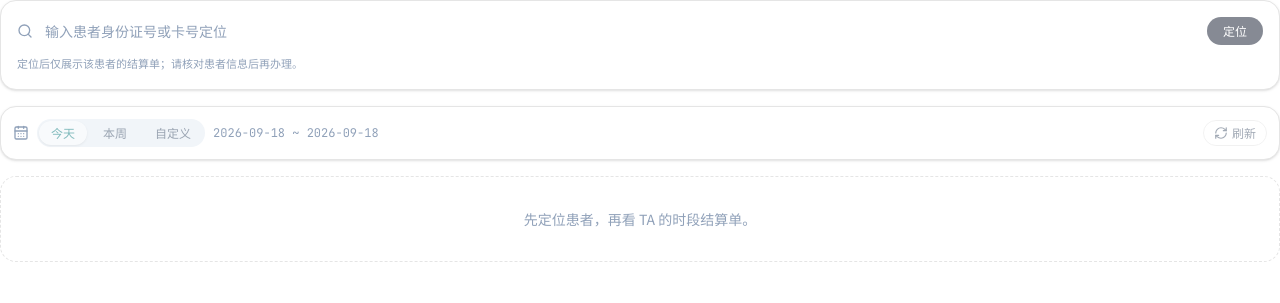
SettlementTimeBrowser（患者定位 + 时间浏览） › 定位未命中显示错误提示，不进入患者卡
Type "NOT-EXIST" into the field labelled "患者身份证号或卡号" at (620, 31), box x1=41 y1=17 x2=1199 y2=45
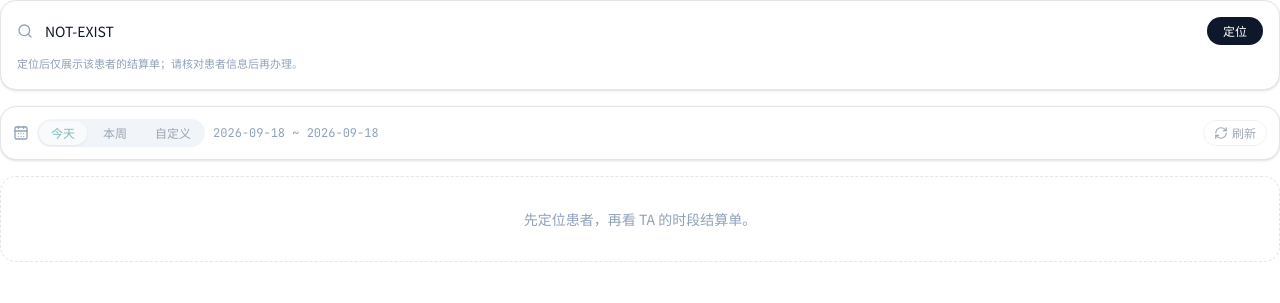
Click the button "定位" at (1235, 31), box x1=1207 y1=17 x2=1263 y2=45
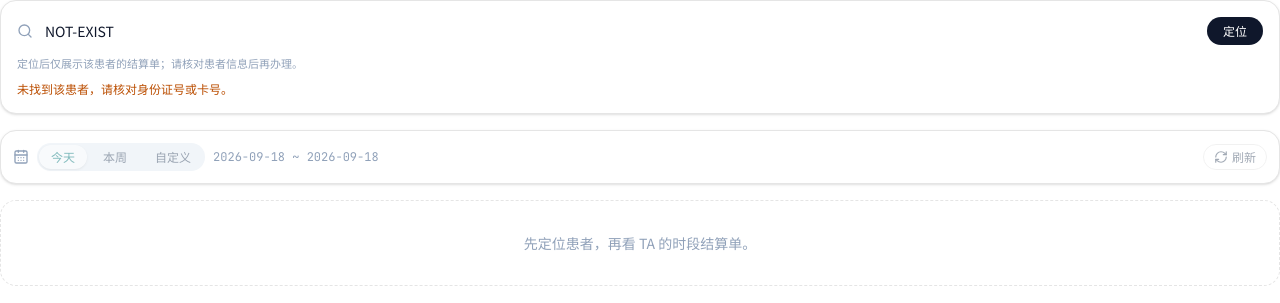
Now the message shows "未找到该患者", box x1=17 y1=80 x2=233 y2=97
